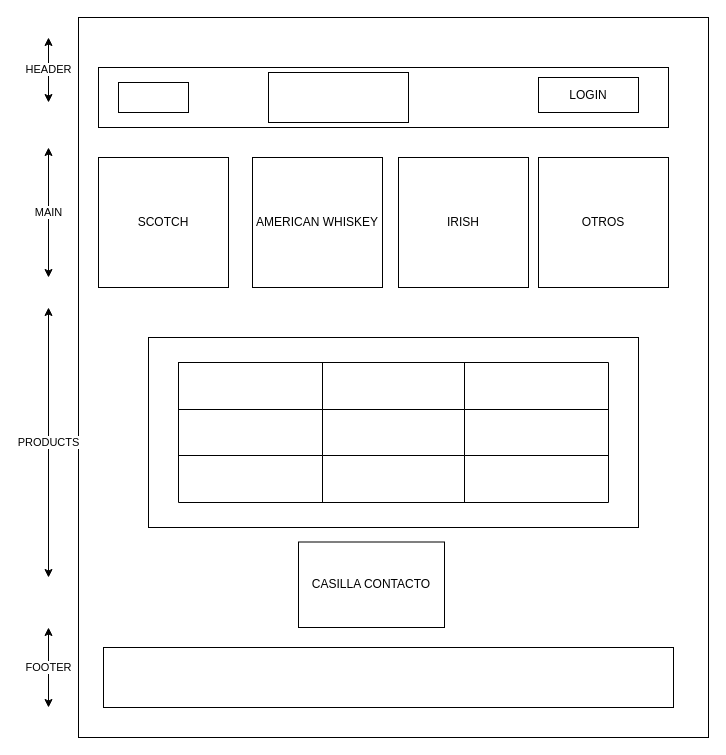
Some shapes in this 726 by 755 pixel diagram are drawn without their labels. Each missing label, with the centre of its shape:
ABOUT US // RRSS: pixel 388 677
ACCESOS DIRECTOS: pixel 338 97
IMAGEN: pixel 153 97
